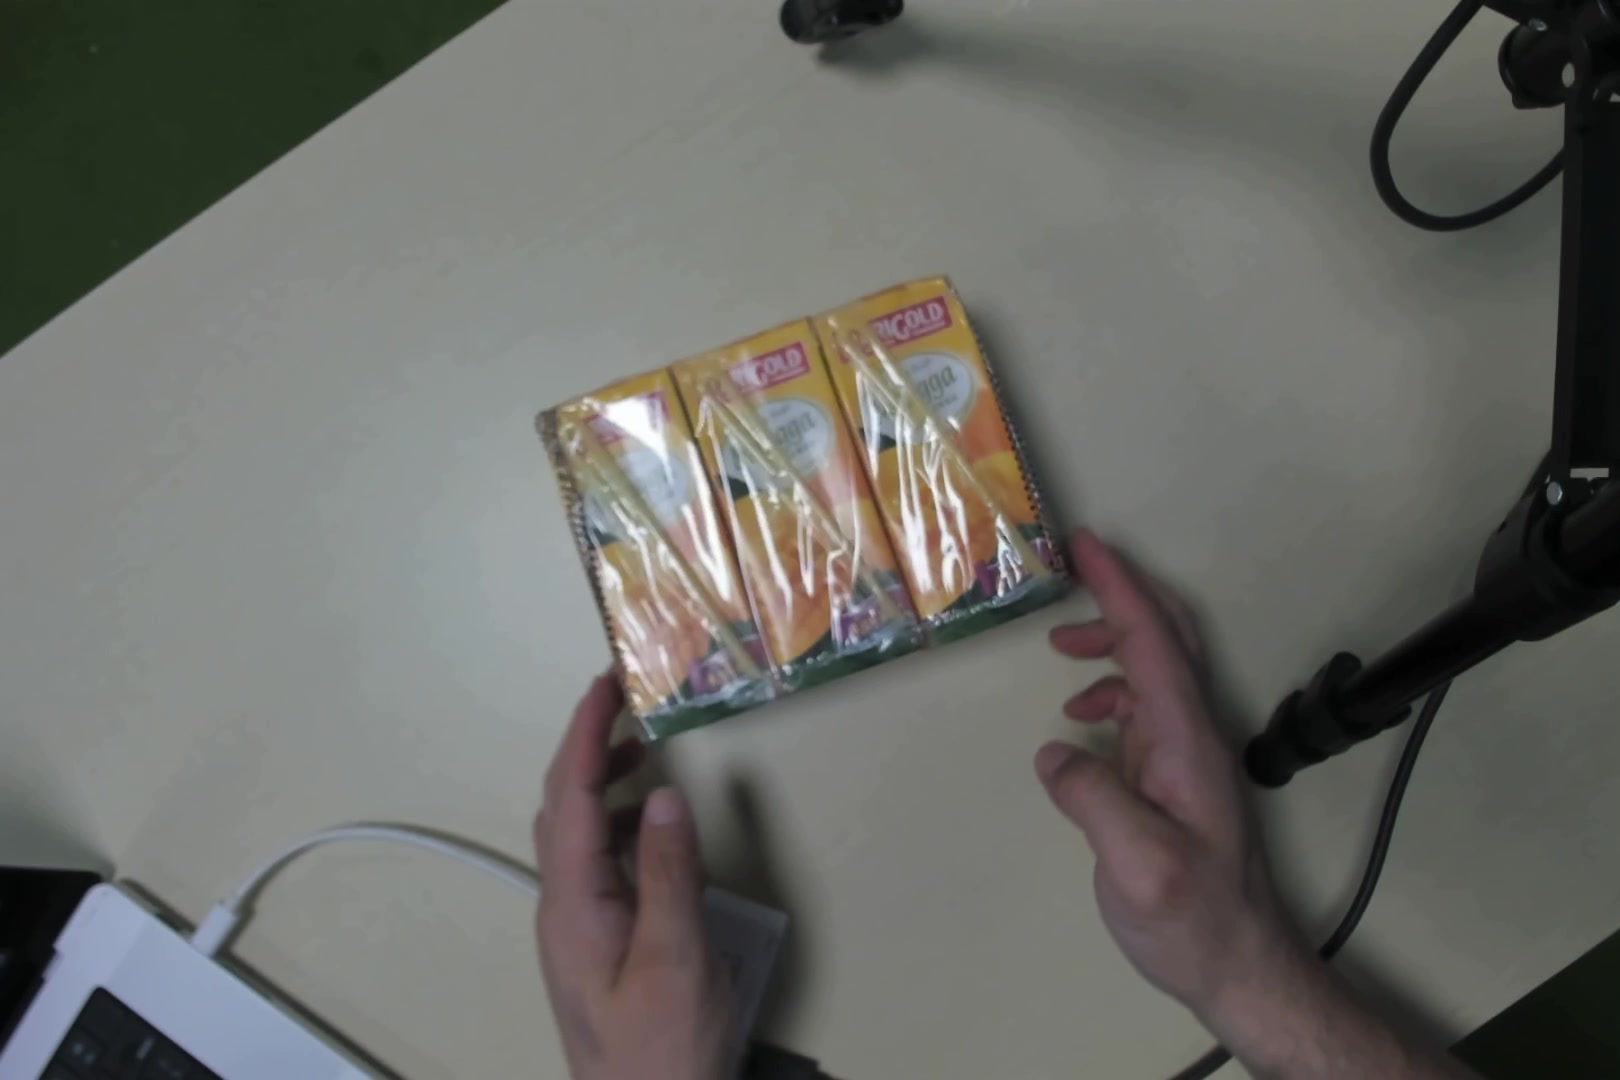FruitJuice_700-799g_Halal_NonHealthy: (545, 262, 1035, 710)
